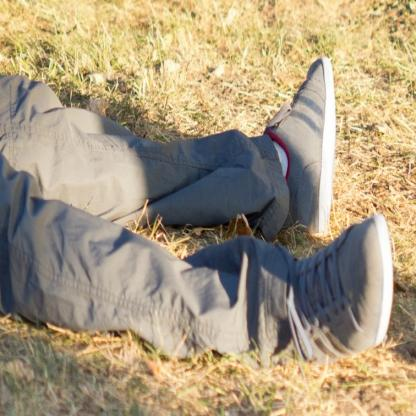leg: (10, 159, 397, 389), (6, 15, 354, 244)
